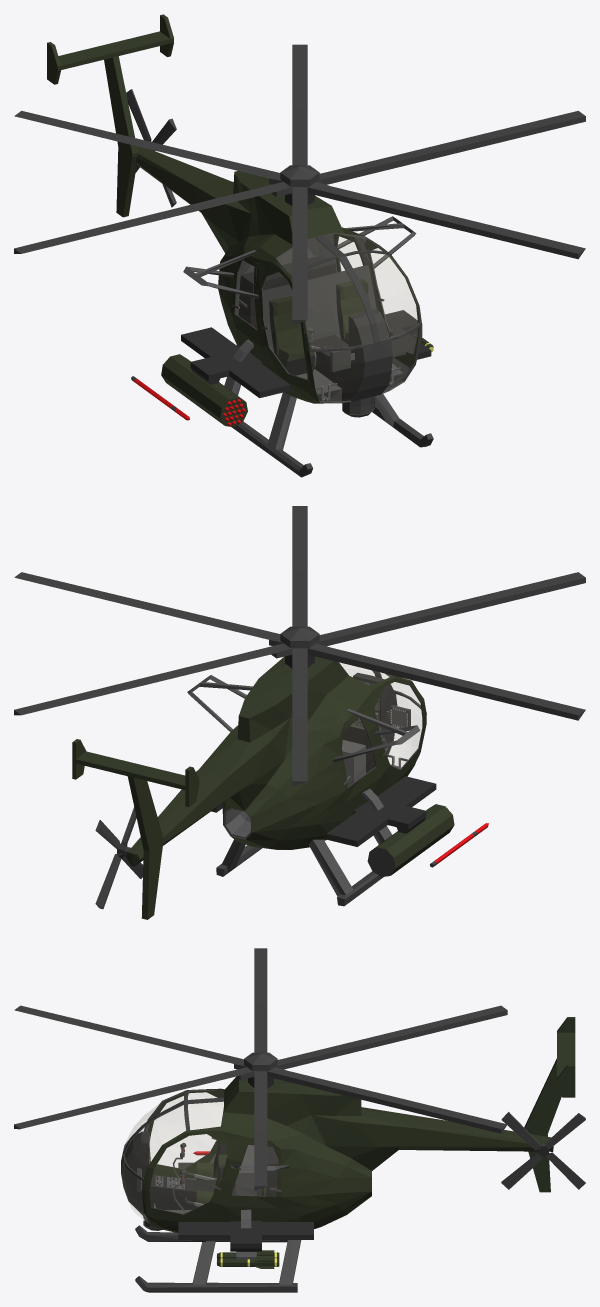
The model's file is mh 6 destructible.fbx.
3 views of the same model, one above another, from view 1: azimuth 30°, elevation 25°; view 2: azimuth 150°, elevation 25°; view 3: azimuth 270°, elevation 25° (orthographic). The views are drawn at different scales.
Visible parts, largest first — view 1: gun rockets R, aux platform side seats.002, body.001, body.003, body dashboard.001, ski LR, body tail, seat pilot, rotor main.009, rotor main.005, rotor main.008, rotor main.004 (+32 smaller); view 2: body.003, body enginehousing.002, body tail, gun rockets R, body.002, aux platform side seats.002, body enginehousing.004, body.038, body.001, rotor main.011, ski LR, rotor main.001 (+28 smaller); view 3: body.003, body tail, ski L, body enginehousing.001, body.001, aux platform side seats.001, door BL, rotor tail, body.035, door FL, body enginehousing.005, body.002 (+29 smaller).
Part boxes in pixels (left/top/right/bottom): gun rockets R: left=161, top=354, right=247, bottom=427; aux platform side seats.002: left=181, top=327, right=290, bottom=398; body.001: left=251, top=193, right=344, bottom=244; body.003: left=193, top=179, right=259, bottom=252; body dashboard.001: left=348, top=309, right=395, bottom=377; ski LR: left=224, top=376, right=312, bottom=477; body tail: left=135, top=146, right=225, bottom=212; seat pilot: left=269, top=296, right=314, bottom=375; rotor main.009: left=443, top=217, right=585, bottom=259; rotor main.005: left=308, top=186, right=457, bottom=227; rotor main.008: left=450, top=110, right=585, bottom=152; rotor main.004: left=317, top=142, right=457, bottom=183; body.003: left=200, top=718, right=309, bottom=810; body enginehousing.002: left=245, top=737, right=323, bottom=832; body tail: left=125, top=768, right=238, bottom=866; gun rockets R: left=367, top=804, right=454, bottom=876; body.002: left=237, top=675, right=292, bottom=742; aux platform side seats.002: left=326, top=776, right=436, bottom=846; body enginehousing.004: left=246, top=803, right=326, bottom=849; body.038: left=307, top=719, right=344, bottom=813; body.001: left=259, top=656, right=348, bottom=718; rotor main.011: left=443, top=678, right=585, bottom=720; ski LR: left=309, top=826, right=392, bottom=906; rotor main.001: left=308, top=647, right=457, bottom=689; body.003: left=287, top=1107, right=415, bottom=1170; body tail: left=398, top=1116, right=553, bottom=1151; ski L: left=135, top=1240, right=301, bottom=1292; body enginehousing.001: left=295, top=1134, right=371, bottom=1195; body.001: left=223, top=1077, right=310, bottom=1125; aux platform side seats.001: left=178, top=1222, right=313, bottom=1239; door BL: left=219, top=1137, right=281, bottom=1221; rotor tail: left=501, top=1112, right=585, bottom=1189; body.035: left=270, top=1126, right=310, bottom=1205; door FL: left=146, top=1131, right=229, bottom=1221; body enginehousing.005: left=298, top=1191, right=371, bottom=1228; body.002: left=286, top=1082, right=361, bottom=1115.
Bounding box in the file's own units: 9.16 × 3.96 × 9.32.
